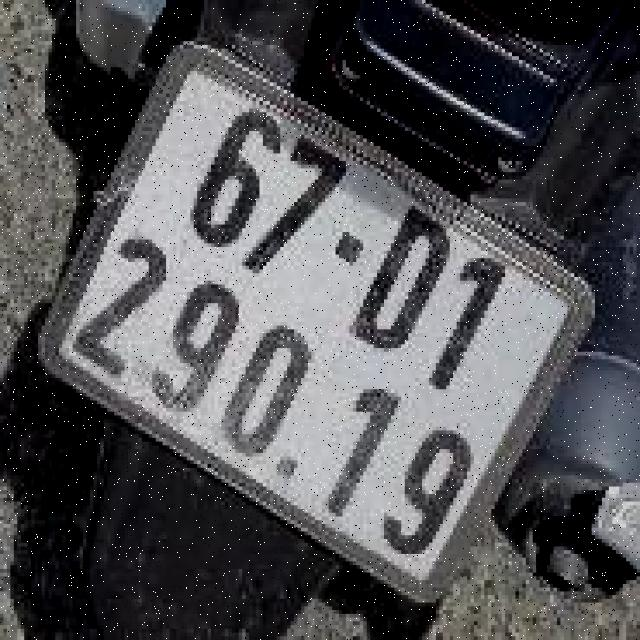0: (210, 312, 327, 475)
1: (305, 369, 411, 525), (407, 244, 514, 397)
2: (66, 224, 186, 389)
6: (174, 96, 292, 264)
7: (232, 126, 354, 300)
9: (138, 264, 250, 428), (367, 413, 484, 569)
D: (335, 195, 461, 369)
